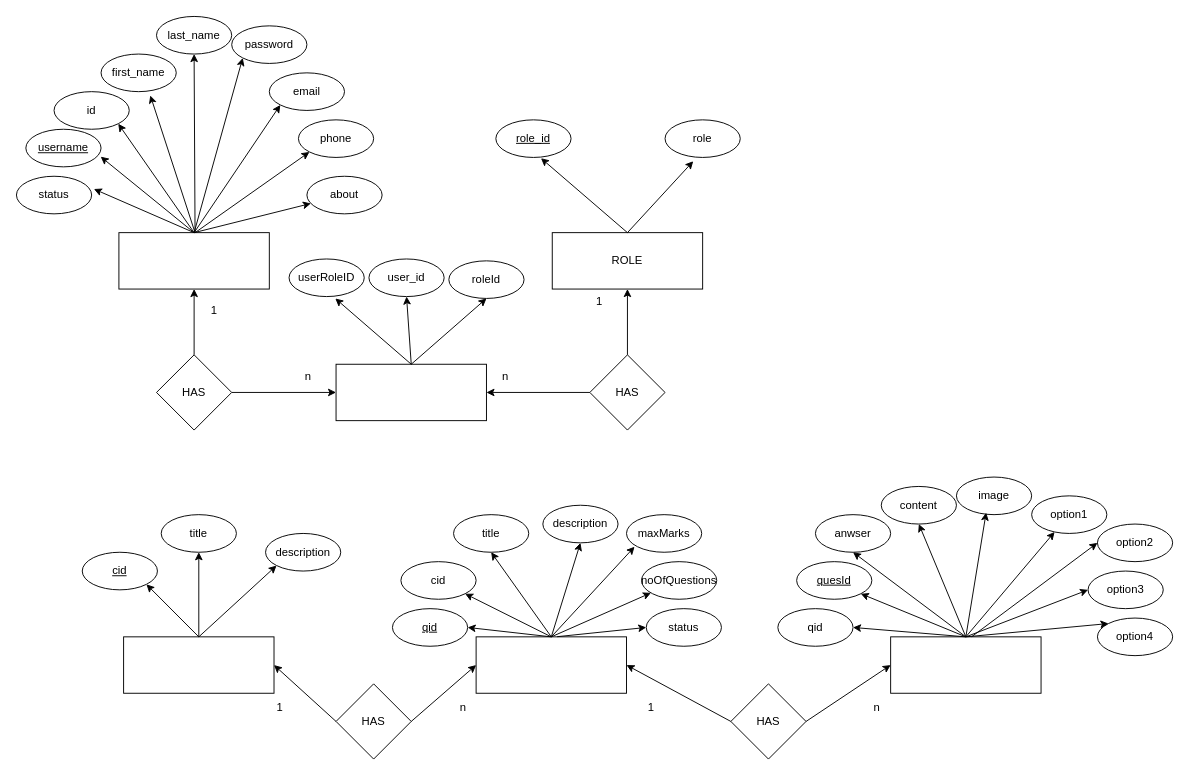
This 1189x776 diagram has some shape labels left out. The shapes that lost their labels are listed below. From the top down, each one's centre as x and y in pixels, then its label:
At (193,260): "USER".
At (410,392): "USER_ROLE".
At (198,664): "CATEGORY".
At (551,664): "Quiz".
At (965,664): "Question".
